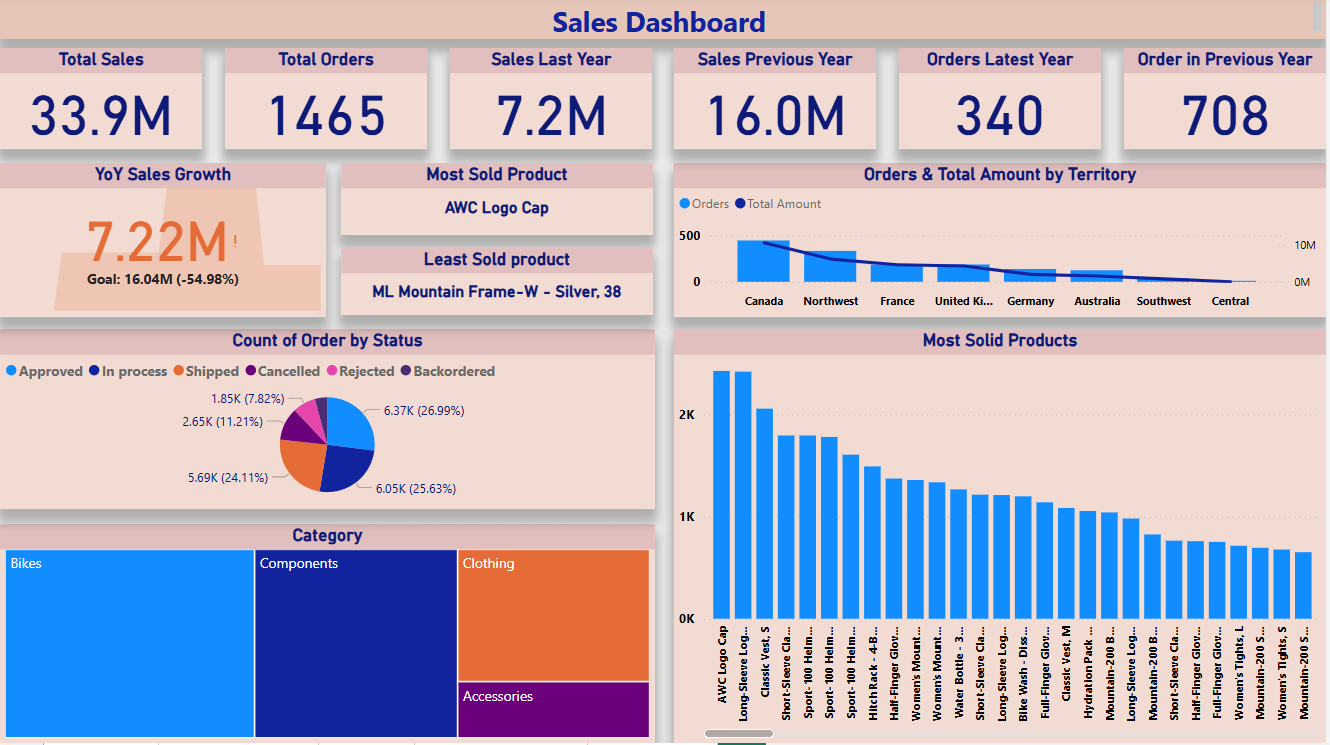

The page's visual inventory and layout, read from the dashboard file:
{"tool":"powerbi","page":{"name":"Overview","canvas":[1280,720],"ordinal":0},"visuals":[{"type":"textbox","box":[0,0,1280,41],"z":0},{"type":"treemap","title":"Category","fields":{"Group":["Sales.ProductCategory","Sales.ProductSubCategory","Sales.Product"],"Values":["CountNonNull(Sales.OrderDetailID)"]},"box":[0,509.1,632.2,211.1],"z":1000},{"type":"pieChart","title":"Count of Order by Status","fields":{"Category":["Sales.Status"],"Y":["CountNonNull(Sales.OrderID)"]},"box":[0,320.9,632.2,173.7],"z":2000},{"type":"lineStackedColumnComboChart","title":"Orders & Total Amount by Territory","fields":{"Category":["Sales.Territory"],"Y2":["DAX Measures.Total Amount"],"Y":["Count(Sales.OrderID)"]},"box":[650,160.6,630,147.6],"z":3000},{"type":"card","title":"Total Sales","fields":{"Values":["Sales.Total Sales"]},"box":[0,49.7,195.4,96.5],"z":4000},{"type":"card","title":"Total Orders","fields":{"Values":["Count(Sales.OrderID)"]},"box":[216.8,49.5,195.4,96.5],"z":5000},{"type":"card","title":"Sales Last Year","fields":{"Values":["DAX Measures.Latest Year Sales"]},"box":[433.8,49.5,195.4,96.5],"z":6000},{"type":"card","title":"Sales Previous Year","fields":{"Values":["DAX Measures.Sales in Previous Year"]},"box":[650.7,49.5,195.4,96.5],"z":7000},{"type":"card","title":"Orders Latest Year","fields":{"Values":["DAX Measures.Order Latest Year"]},"box":[867.7,49.5,195.4,96.5],"z":8000},{"type":"card","title":"Order in Previous Year","fields":{"Values":["DAX Measures.Order Previous Year"]},"box":[1084.6,49.5,195.4,96.5],"z":9000},{"type":"kpi","title":"YoY Sales Growth","fields":{"TrendLine":["Sales.OrderDate"],"Indicator":["DAX Measures.Sales in Latest Year"],"Goal":["DAX Measures.Sales in Previous Year"]},"box":[0,160.6,314.7,147.6],"z":10000},{"type":"columnChart","title":"Most Solid Products","fields":{"Category":["Sales.Product"],"Y":["DAX Measures.Total Sales Per Product"]},"box":[650.3,320.9,629.8,399.3],"z":11000},{"type":"card","title":"Most Sold Product","fields":{"Values":["DAX Measures.Most Sold Product"]},"box":[329.4,160.5,300.4,68.8],"z":12000},{"type":"card","title":"Least Sold product","fields":{"Values":["DAX Measures.Least Sold Product"]},"box":[329.4,242.5,300.4,65.1],"z":13000}]}

Visuals, with their boxes in screenshot pixels (x1, y1, x2, y2), scaled from the page's 1280x720 canvas onto the 1330x745 screenshot:
textbox: x1=0, y1=0, x2=1329, y2=42
"Category" treemap: x1=0, y1=527, x2=657, y2=744
"Count of Order by Status" pieChart: x1=0, y1=332, x2=657, y2=512
"Orders & Total Amount by Territory" lineStackedColumnComboChart: x1=675, y1=166, x2=1329, y2=319
"Total Sales" card: x1=0, y1=51, x2=203, y2=151
"Total Orders" card: x1=225, y1=51, x2=428, y2=151
"Sales Last Year" card: x1=451, y1=51, x2=654, y2=151
"Sales Previous Year" card: x1=676, y1=51, x2=879, y2=151
"Orders Latest Year" card: x1=902, y1=51, x2=1105, y2=151
"Order in Previous Year" card: x1=1127, y1=51, x2=1329, y2=151
"YoY Sales Growth" kpi: x1=0, y1=166, x2=327, y2=319
"Most Solid Products" columnChart: x1=676, y1=332, x2=1329, y2=744
"Most Sold Product" card: x1=342, y1=166, x2=654, y2=237
"Least Sold product" card: x1=342, y1=251, x2=654, y2=318
